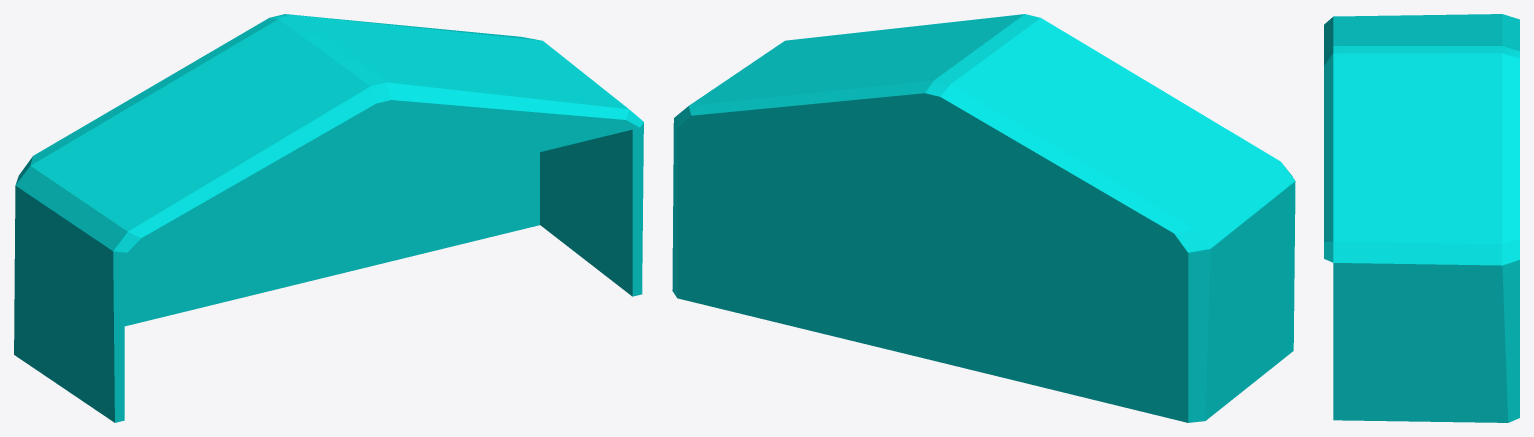
File: SM_Prop_Tent_01_Collision.fbx
3 renders of one model, left to right at view 1: azimuth 30°, elevation 25°; view 2: azimuth 150°, elevation 25°; view 3: azimuth 270°, elevation 25°, orthographic. The views are drawn at different scales.
Visible parts, largest first — view 1: SM_Prop_Tent_01_Collision; view 2: SM_Prop_Tent_01_Collision; view 3: SM_Prop_Tent_01_Collision.
Boxes of the visible parts, x1=… form: SM_Prop_Tent_01_Collision: x1=14, y1=14, x2=643, y2=422; SM_Prop_Tent_01_Collision: x1=672, y1=14, x2=1295, y2=422; SM_Prop_Tent_01_Collision: x1=1324, y1=14, x2=1519, y2=422.
Size of the model in its own units: 771 by 373 by 262.
